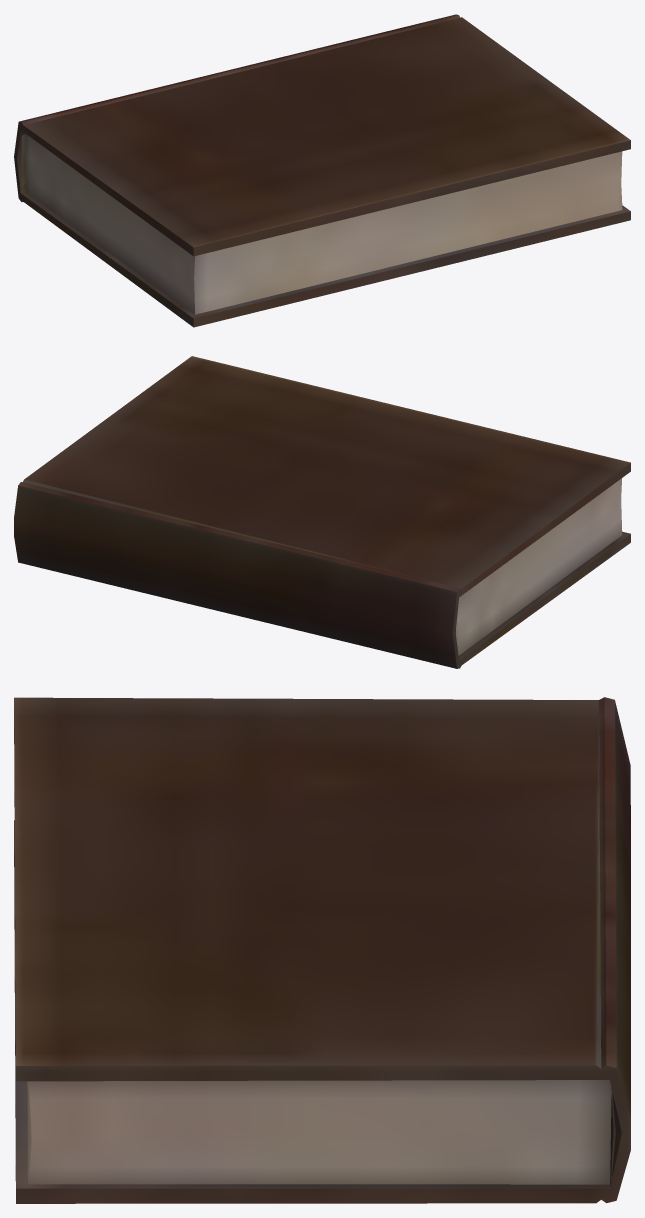
Rendered from book-single-b.lod1.glb.
3 renders of one model, top to bottom at view 1: azimuth 30°, elevation 25°; view 2: azimuth 150°, elevation 25°; view 3: azimuth 270°, elevation 25°, orthographic. The views are drawn at different scales.
Parts seen in each view (by area): view 1: book-single-b; view 2: book-single-b; view 3: book-single-b.
Boxes of the visible parts, x1,y1,x2,y2 form: book-single-b: (14,14,630,327); book-single-b: (14,356,630,668); book-single-b: (14,697,630,1203).
Bounding box in the file's own units: 0.2352 × 0.041 × 0.1663.
1 material, 1 textured.
